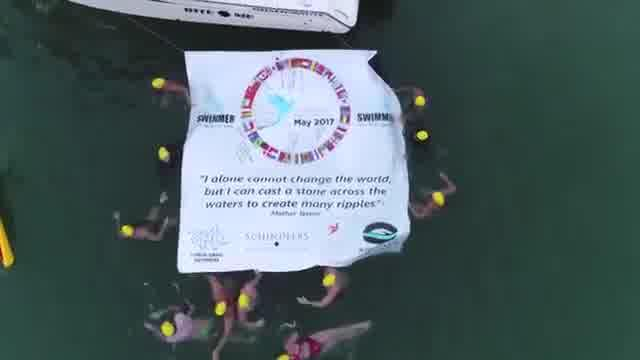swimmer: (276, 316, 379, 359), (404, 170, 456, 226), (202, 270, 232, 360), (110, 202, 172, 245), (290, 274, 356, 310), (145, 314, 213, 346), (235, 272, 268, 332), (392, 82, 430, 122), (152, 74, 195, 106)
